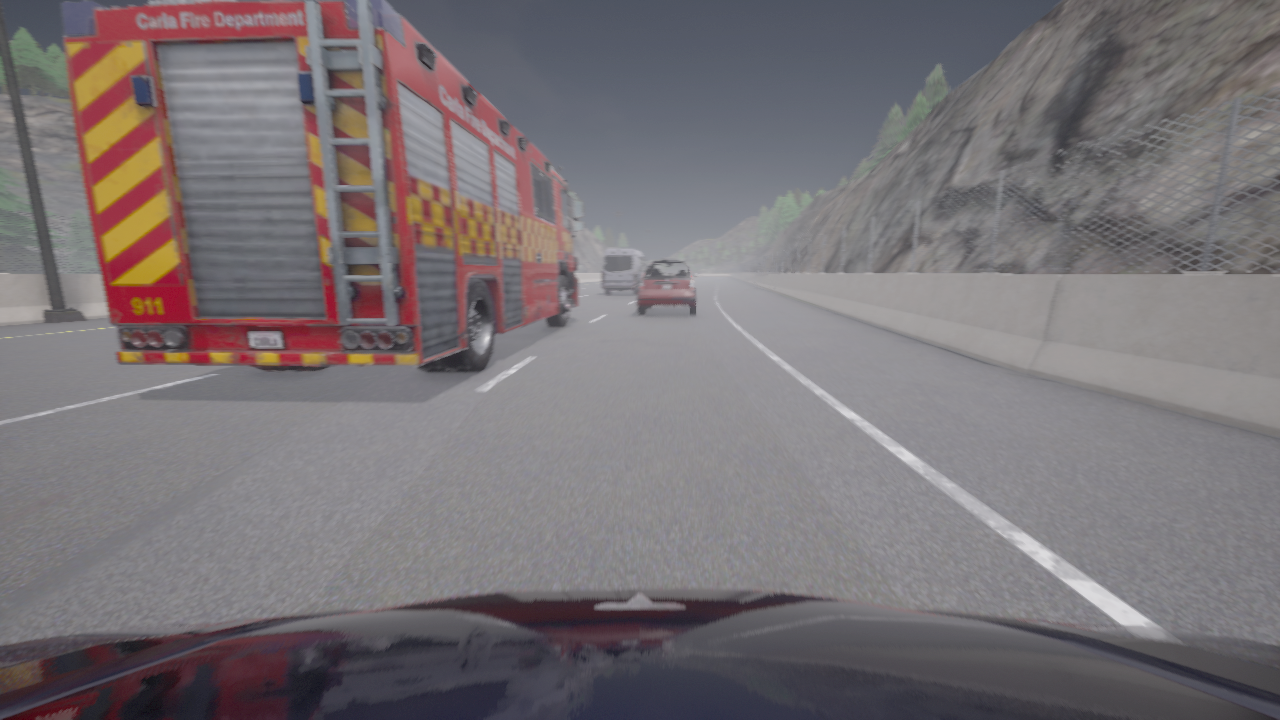cyclist: (60, 0, 584, 373), (0, 588, 1279, 719), (637, 259, 698, 315), (602, 248, 646, 294)
